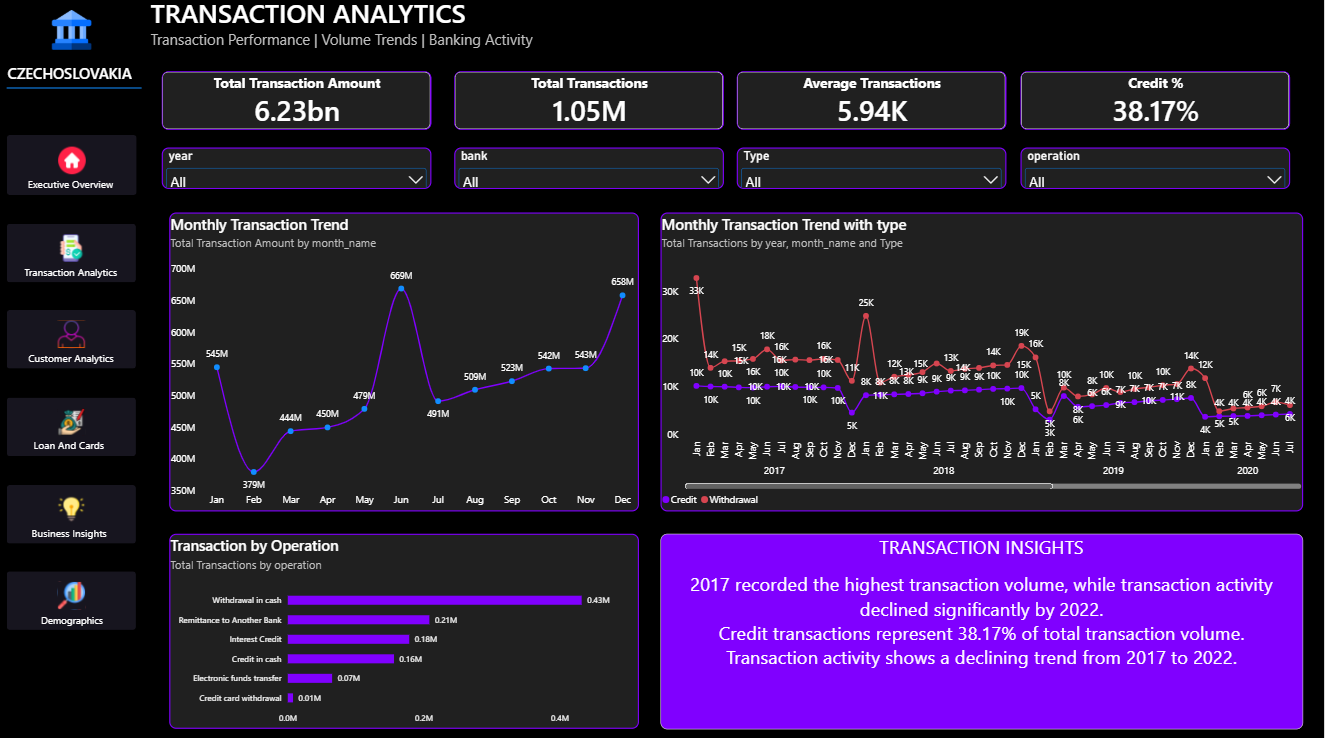

The dashboard page shown, as its layout file describes it:
{"tool":"powerbi","page":{"name":"Transactions","canvas":[1920,1080],"ordinal":1},"visuals":[{"type":"image","box":[70,22.5,72.5,57.5],"z":0},{"type":"shape","box":[12.5,80,195,110],"z":1000},{"type":"textbox","box":[220,0,1700,97.5],"z":2000},{"type":"textbox","box":[0,97.5,207.5,92.5],"z":3000},{"type":"cardVisual","fields":{"Data":["_Measures.Total Transaction Amount"]},"box":[237.5,110,390,85],"z":4000},{"type":"cardVisual","fields":{"Data":["_Measures.Total Transactions"]},"box":[660,110,390,85],"z":5000},{"type":"cardVisual","fields":{"Data":["_Measures.Average Transactions"]},"box":[1070,110,390,85],"z":6000},{"type":"cardVisual","fields":{"Data":["_Measures.Credit %"]},"box":[1480,110,390,85],"z":7000},{"type":"slicer","fields":{"Values":["DateTable.year"]},"box":[237.5,220,390,60],"z":8000},{"type":"slicer","fields":{"Values":["bank1 transactions_clean.bank"]},"box":[660,220,390,60],"z":9000},{"type":"slicer","fields":{"Values":["bank1 transactions_clean.Type"]},"box":[1070,220,390,60],"z":10000},{"type":"slicer","fields":{"Values":["bank1 transactions_clean.operation"]},"box":[1480,220,390,60],"z":11000},{"type":"lineChart","title":" Monthly Transaction Trend","fields":{"Category":["DateTable.month_name"],"Y":["_Measures.Total Transaction Amount"]},"box":[247.5,315,680,432.5],"z":12000},{"type":"lineChart","title":" Monthly Transaction Trend with type","fields":{"Category":["DateTable.year","DateTable.month_name"],"Y":["_Measures.Total Transactions"],"Series":["bank1 transactions_clean.Type"]},"box":[960,315,930,432.5],"z":13000},{"type":"clusteredBarChart","title":"Transaction by Operation","fields":{"Category":["bank1 transactions_clean.operation"],"Y":["_Measures.Total Transactions"]},"box":[247.5,780,680,282.5],"z":14000},{"type":"textbox","box":[960,780,930,283],"z":15000},{"type":"actionButton","box":[12.5,330.6,187,85],"z":16000},{"type":"actionButton","box":[12.5,456.7,187,85],"z":17000},{"type":"actionButton","box":[12.5,582.8,187,85],"z":18000},{"type":"actionButton","box":[12.5,708.9,187,85],"z":19000},{"type":"actionButton","box":[12.5,202.5,188.3,87],"z":20000},{"type":"actionButton","box":[12.5,835,187,85],"z":21000}]}

Visuals, with their boxes in screenshot pixels (x1, y1, x2, y2), scaled from the page's 1920x1080 canvas onto the 1325x738 screenshot:
image: locate(48, 15, 98, 55)
shape: locate(9, 55, 143, 130)
textbox: locate(152, 0, 1324, 67)
textbox: locate(0, 67, 143, 130)
cardVisual - _Measures.Total Transaction Amount: locate(164, 75, 433, 133)
cardVisual - _Measures.Total Transactions: locate(455, 75, 725, 133)
cardVisual - _Measures.Average Transactions: locate(738, 75, 1008, 133)
cardVisual - _Measures.Credit %: locate(1021, 75, 1290, 133)
slicer - DateTable.year: locate(164, 150, 433, 191)
slicer - bank1 transactions_clean.bank: locate(455, 150, 725, 191)
slicer - bank1 transactions_clean.Type: locate(738, 150, 1008, 191)
slicer - bank1 transactions_clean.operation: locate(1021, 150, 1290, 191)
" Monthly Transaction Trend" lineChart: locate(171, 215, 640, 511)
" Monthly Transaction Trend with type" lineChart: locate(662, 215, 1304, 511)
"Transaction by Operation" clusteredBarChart: locate(171, 533, 640, 726)
textbox: locate(662, 533, 1304, 726)
actionButton: locate(9, 226, 138, 284)
actionButton: locate(9, 312, 138, 370)
actionButton: locate(9, 398, 138, 456)
actionButton: locate(9, 484, 138, 542)
actionButton: locate(9, 138, 139, 198)
actionButton: locate(9, 571, 138, 629)
